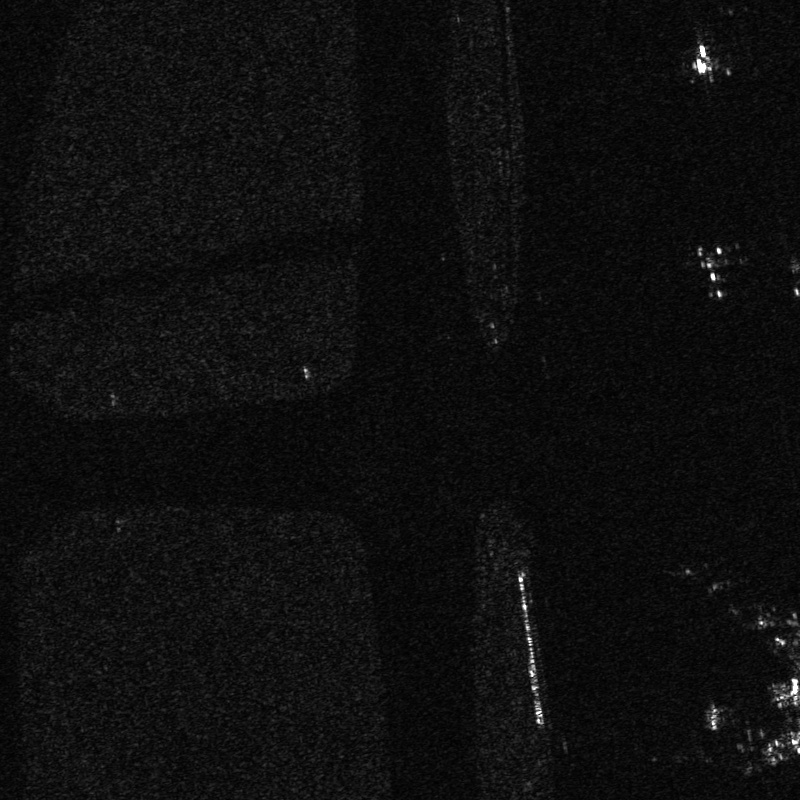ARJ21: (679, 242, 749, 301), (671, 41, 737, 84)
